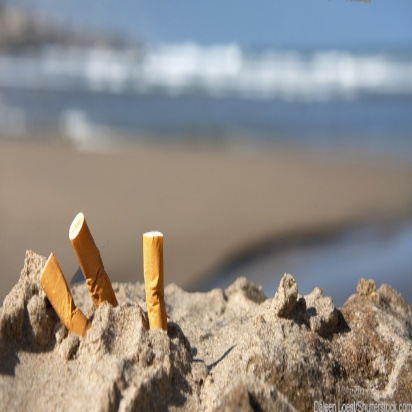cigarette: (66, 204, 121, 314), (33, 250, 94, 342), (142, 224, 171, 337)
